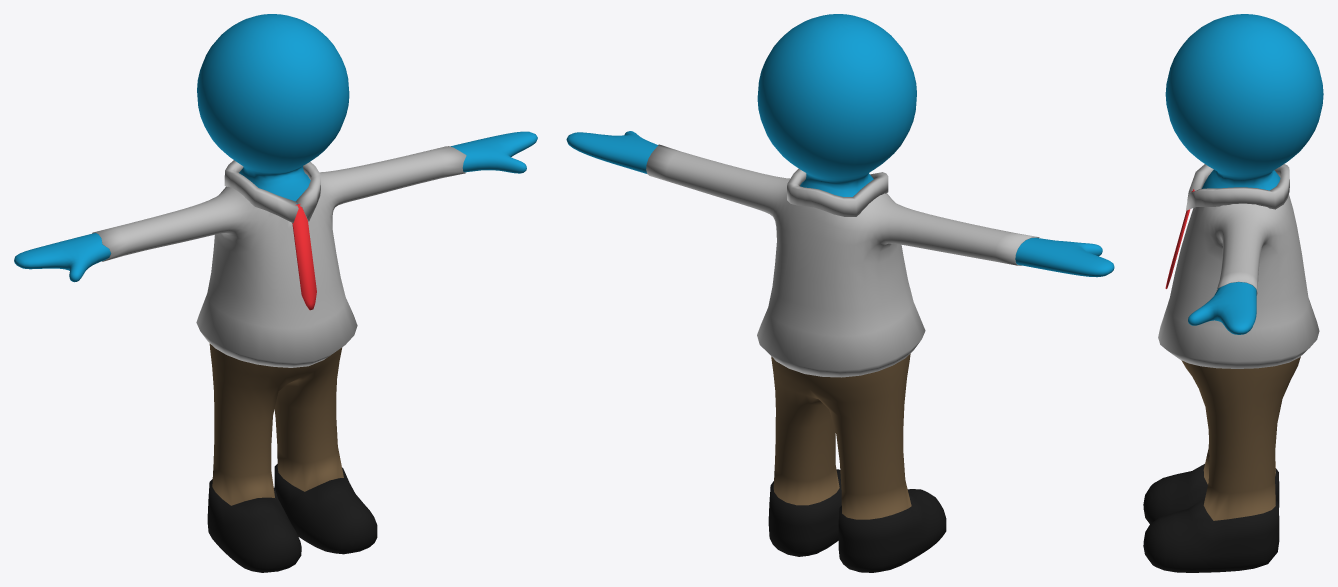
File: BankIdleMob.fbx
The picture shows the model from 3 angles, left to right: view 1: azimuth 30°, elevation 25°; view 2: azimuth 150°, elevation 25°; view 3: azimuth 270°, elevation 25°; orthographic projection. The views are drawn at different scales.
Visible parts, largest first — view 1: man; view 2: man; view 3: man.
Boxes of the visible parts, x1,y1,x2,y2 form: man: (14, 14, 537, 572); man: (566, 14, 1114, 572); man: (1143, 14, 1323, 572).
Bounding box in the file's own units: 1307 × 1233 × 382.
